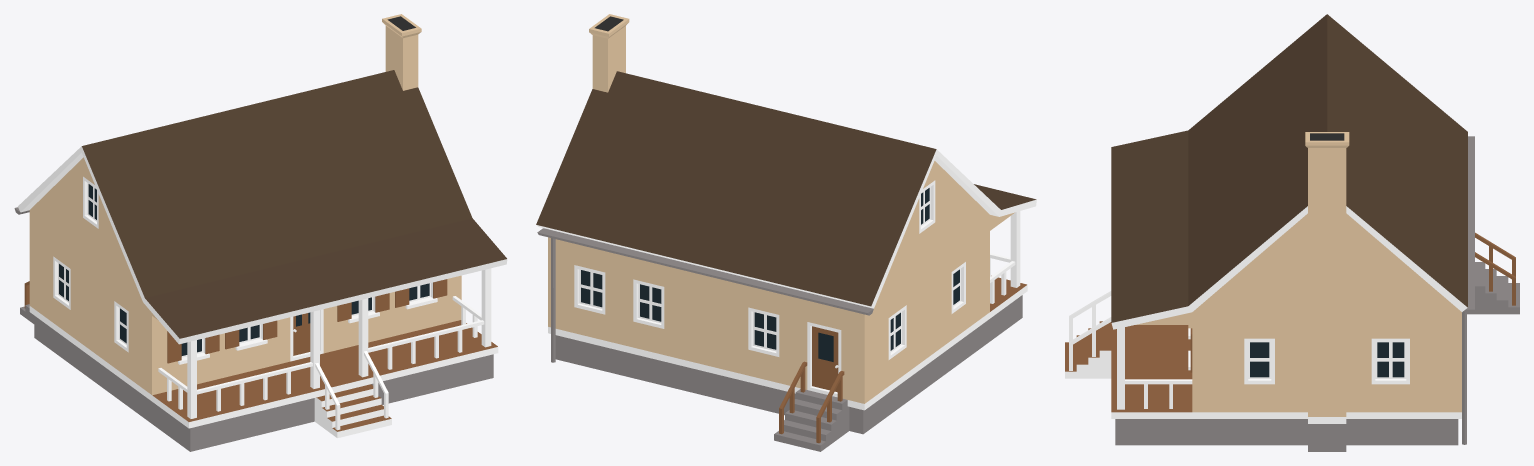
File: building-house-family-small.glb
3 views of the same model, side by side, from view 1: azimuth 30°, elevation 25°; view 2: azimuth 150°, elevation 25°; view 3: azimuth 270°, elevation 25° (orthographic). The views are drawn at different scales.
Visible parts, largest first — view 1: building-house-family-small; view 2: building-house-family-small; view 3: building-house-family-small.
Boxes of the visible parts, x1,y1,x2,y2 form: building-house-family-small: [14, 14, 507, 451]; building-house-family-small: [536, 14, 1036, 451]; building-house-family-small: [1065, 14, 1519, 451].
Size of the model in its own units: 10.87 by 8.9 by 11.8.
1 material, 1 textured.
